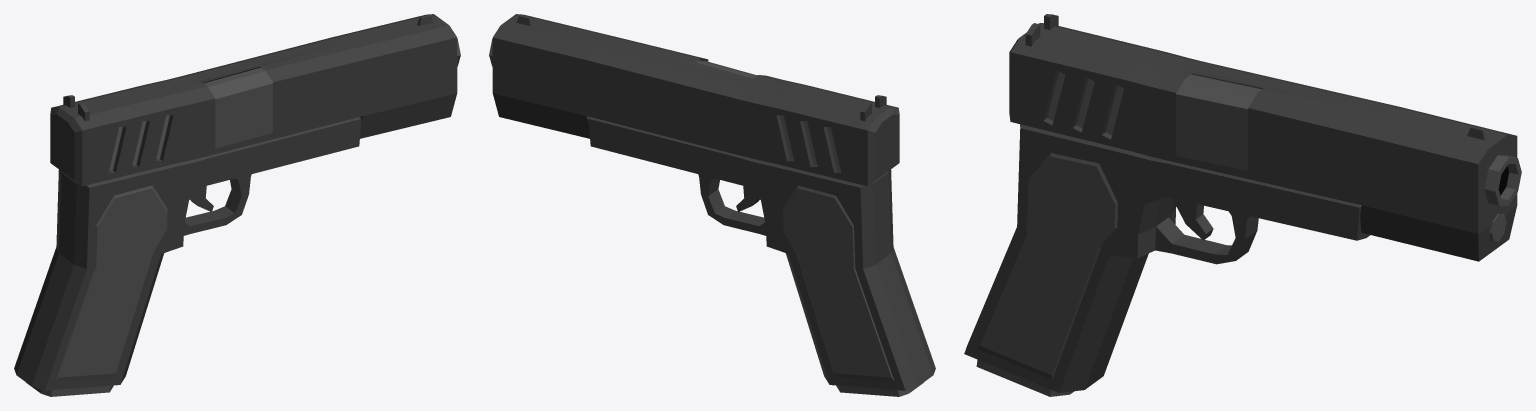
The model's file is Pistol1.fbx.
The picture shows the model from 3 angles, left to right: view 1: azimuth 30°, elevation 25°; view 2: azimuth 150°, elevation 25°; view 3: azimuth 330°, elevation 25°; orthographic projection. The views are drawn at different scales.
Visible parts, largest first — view 1: Pistol; view 2: Pistol; view 3: Pistol.
Part boxes in pixels (x1,y1,x2,y2): Pistol: (14, 14, 460, 396); Pistol: (489, 14, 935, 396); Pistol: (964, 14, 1521, 396).
Size of the model in its own units: 25.85 by 16.65 by 3.32.
